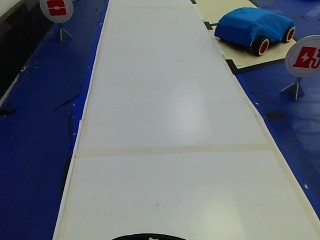battery: (288, 37, 318, 78)
car: (212, 9, 292, 57)
company: (37, 0, 73, 23)
